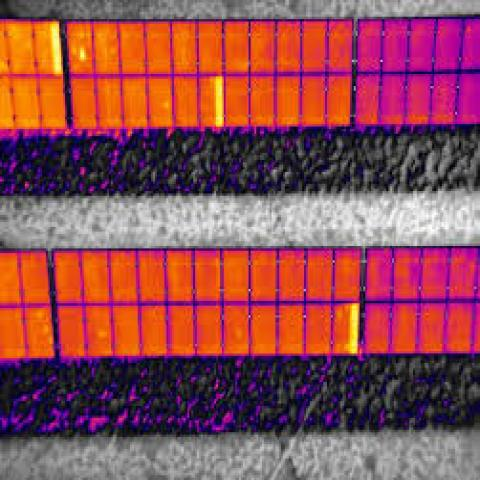fault: (50, 21, 63, 79), (350, 303, 359, 356), (216, 77, 224, 132), (77, 43, 86, 62)
